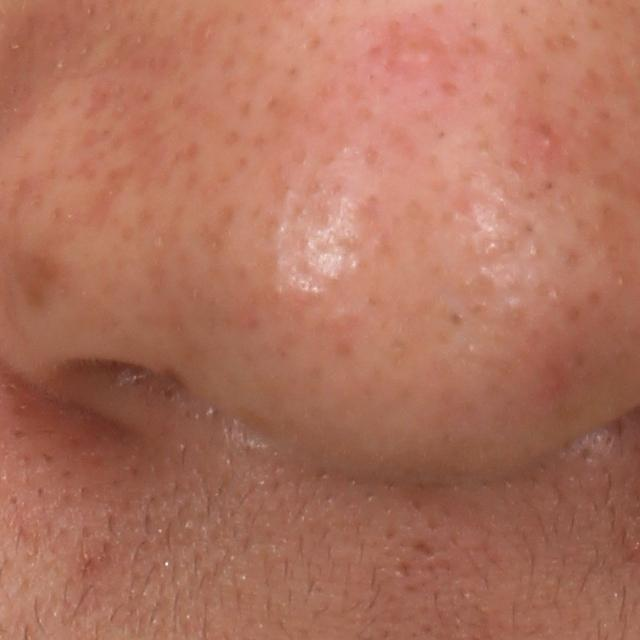atrophic_scar: (412, 538, 440, 561)
